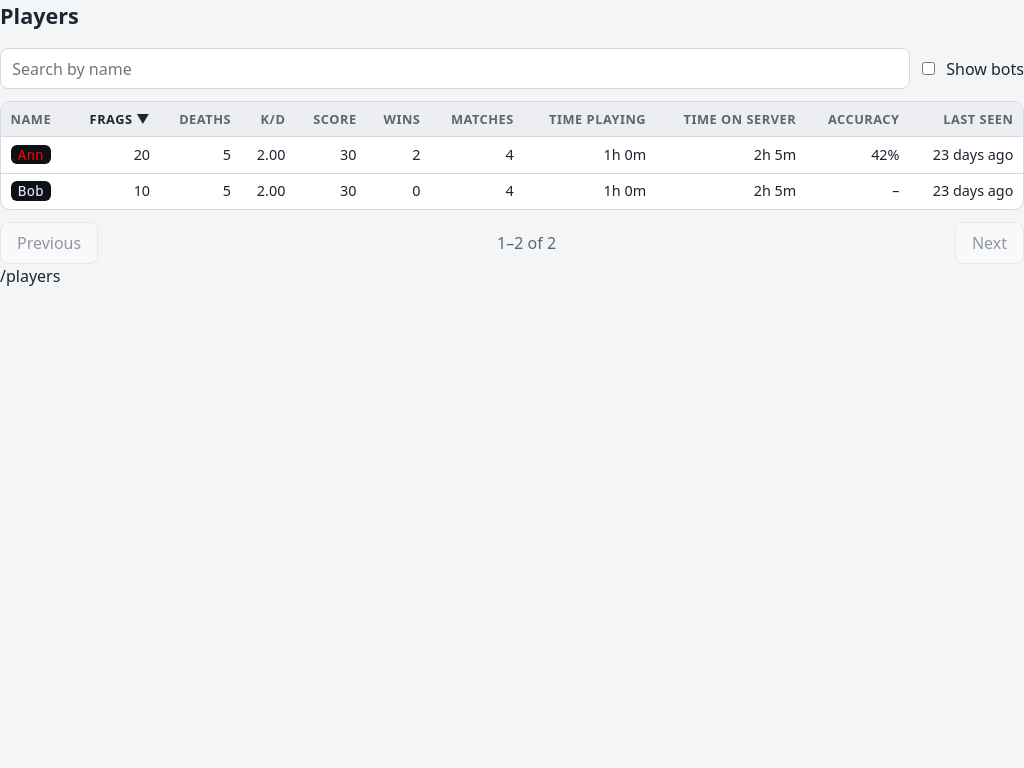
Test: the player dialog (7.3) › shows matches played and wins, and links to that player's matches
This screenshot has width=1024, height=768.
Click the text "Ann". click: (512, 155)
box: top-left (1, 137), bottom-right (1023, 173)
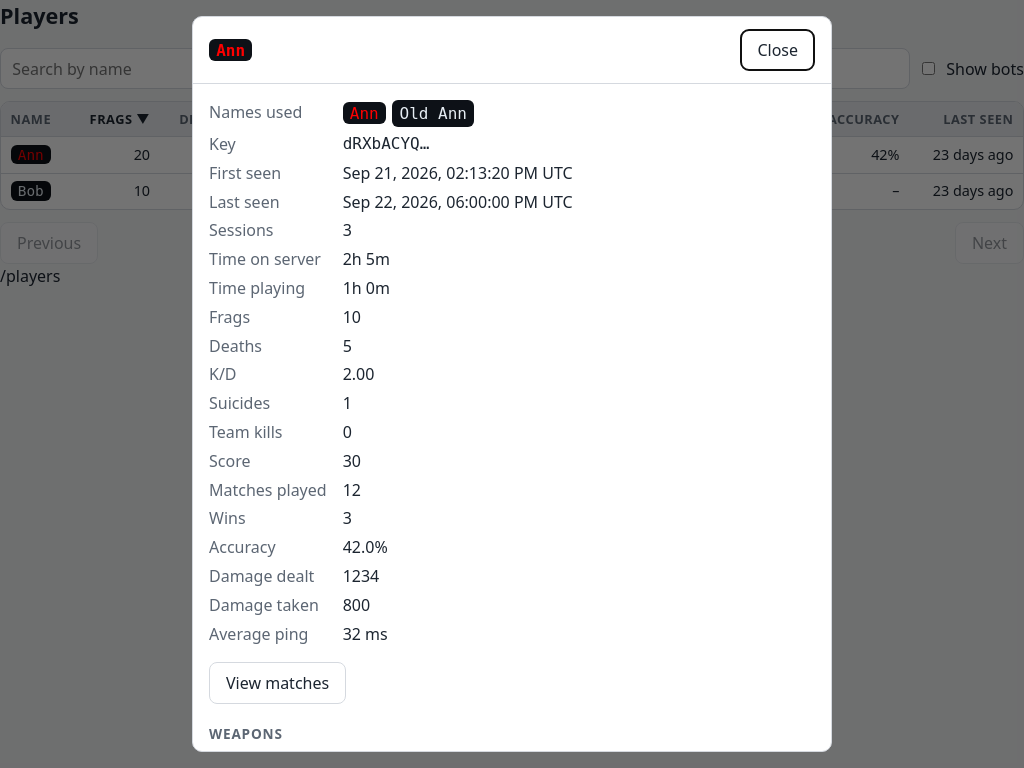
Check: the text "dRXbACYQ…" is shown, box top-left (343, 134), bottom-right (429, 153)
Check: the text "12" is shown, box top-left (343, 478), bottom-right (361, 500)
Check: the 2nd text "3" is shown, box top-left (343, 507), bottom-right (352, 529)
Click the link "View matches". click: (278, 682)
box: top-left (209, 662), bottom-right (346, 704)
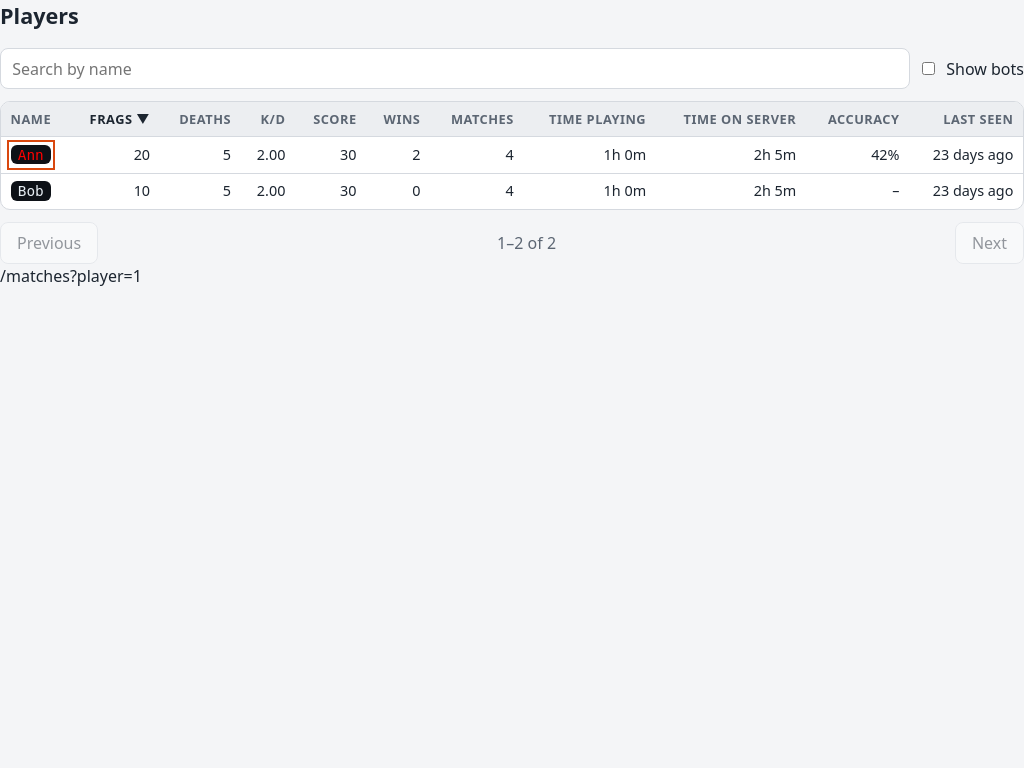
Check: the text with test id "where" reads "/matches?player=1", box top-left (0, 265), bottom-right (142, 287)
Check: the dialog is gone
